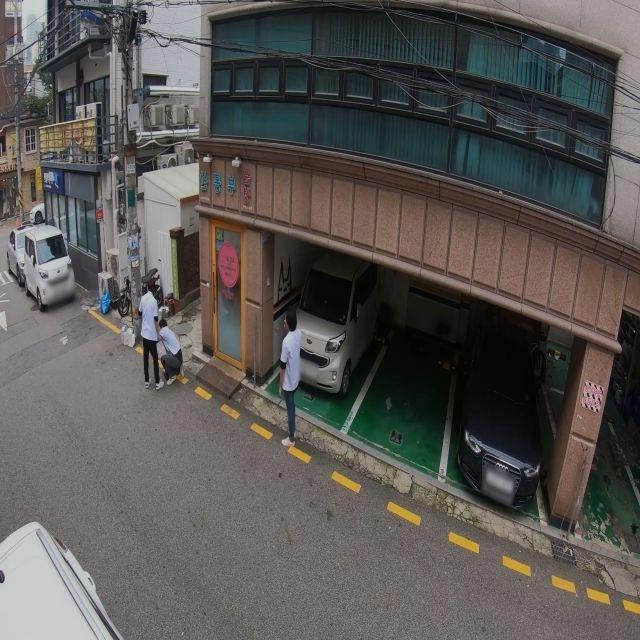fight: (136, 275, 183, 388)
non-fight: (276, 310, 305, 447)
